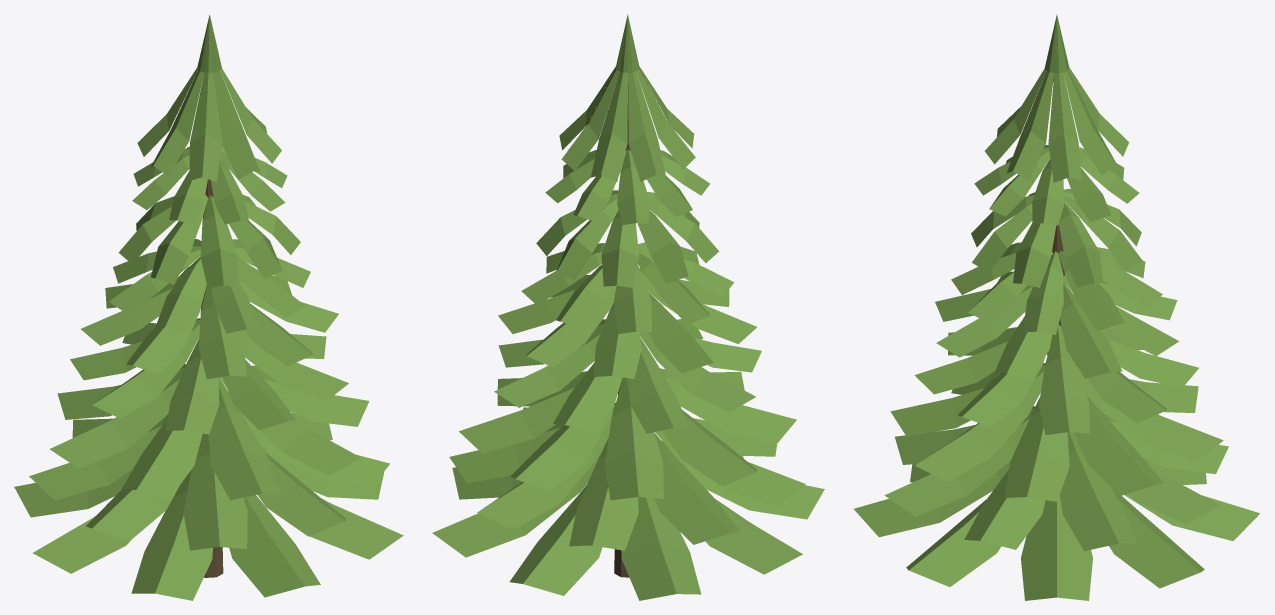
File: Fir_Tree.gltf
3 views of the same model, side by side, from view 1: azimuth 30°, elevation 25°; view 2: azimuth 150°, elevation 25°; view 3: azimuth 270°, elevation 25° (orthographic).
Parts seen in each view (by area): view 1: Fir-tree_Cylinder.002; view 2: Fir-tree_Cylinder.002; view 3: Fir-tree_Cylinder.002.
Boxes of the visible parts, x1,y1,x2,y2 form: Fir-tree_Cylinder.002: [14, 15, 403, 600]; Fir-tree_Cylinder.002: [432, 14, 824, 600]; Fir-tree_Cylinder.002: [854, 15, 1259, 600].
Bounding box in the file's own units: 3.77 × 5.71 × 3.77.
